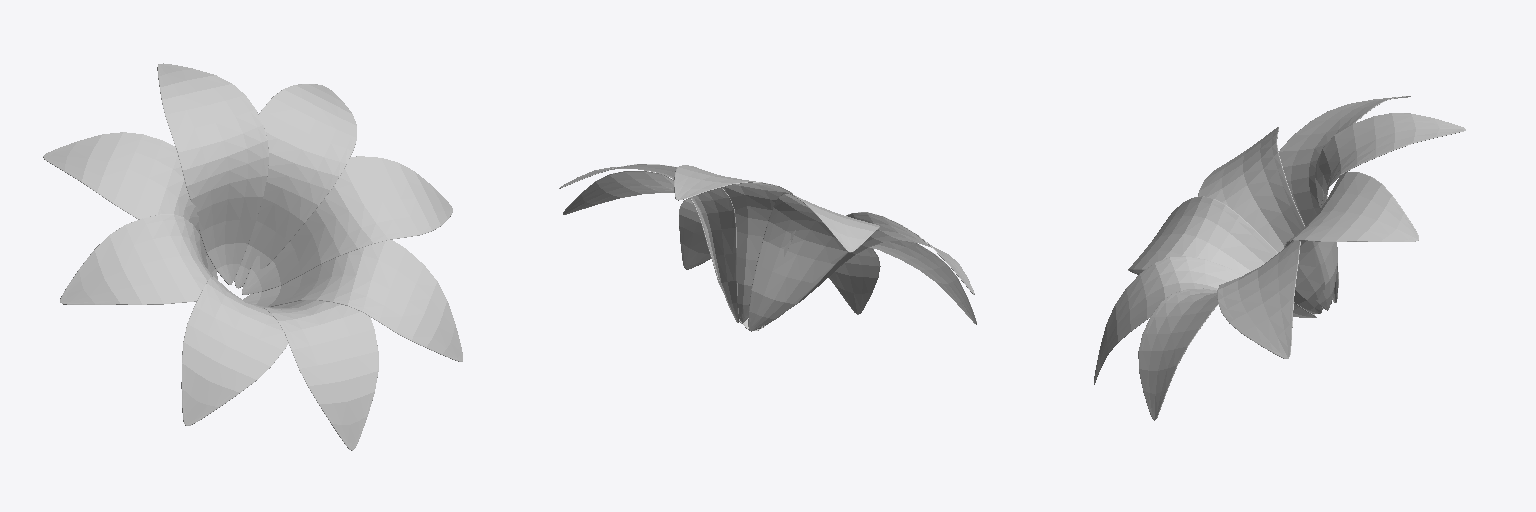
File: sepals_only.obj
3 views of the same model, side by side, from view 1: azimuth 30°, elevation 25°; view 2: azimuth 150°, elevation 25°; view 3: azimuth 270°, elevation 25° (orthographic).
Parts seen in each view (by area): view 1: facb_sepal_5, facb_sepal_4, facb_sepal_3, facb_sepal_2, facb_sepal_7, facb_sepal_1, facb_sepal_8, facb_sepal_6; view 2: facb_sepal_6, facb_sepal_5, facb_sepal_4, facb_sepal_3, facb_sepal_8, facb_sepal_1, facb_sepal_7, facb_sepal_2; view 3: facb_sepal_3, facb_sepal_4, facb_sepal_8, facb_sepal_7, facb_sepal_2, facb_sepal_5, facb_sepal_1, facb_sepal_6.
Boxes of the visible parts, x1=… form: facb_sepal_5: x1=157, y1=63, x2=268, y2=284; facb_sepal_4: x1=234, y1=84, x2=356, y2=288; facb_sepal_3: x1=242, y1=156, x2=452, y2=294; facb_sepal_2: x1=243, y1=240, x2=462, y2=361; facb_sepal_7: x1=60, y1=214, x2=212, y2=304; facb_sepal_1: x1=251, y1=300, x2=378, y2=450; facb_sepal_8: x1=181, y1=276, x2=288, y2=425; facb_sepal_6: x1=43, y1=132, x2=217, y2=279; facb_sepal_6: x1=748, y1=193, x2=879, y2=331; facb_sepal_5: x1=674, y1=165, x2=795, y2=322; facb_sepal_4: x1=559, y1=164, x2=738, y2=322; facb_sepal_3: x1=563, y1=171, x2=741, y2=323; facb_sepal_8: x1=759, y1=240, x2=976, y2=328; facb_sepal_1: x1=754, y1=247, x2=880, y2=330; facb_sepal_7: x1=796, y1=212, x2=974, y2=304; facb_sepal_2: x1=679, y1=198, x2=748, y2=329; facb_sepal_3: x1=1217, y1=240, x2=1324, y2=358; facb_sepal_4: x1=1284, y1=172, x2=1418, y2=310; facb_sepal_8: x1=1128, y1=196, x2=1277, y2=275; facb_sepal_7: x1=1198, y1=127, x2=1304, y2=252; facb_sepal_2: x1=1138, y1=288, x2=1316, y2=420; facb_sepal_5: x1=1315, y1=113, x2=1465, y2=303; facb_sepal_1: x1=1094, y1=256, x2=1314, y2=384; facb_sepal_6: x1=1279, y1=96, x2=1410, y2=302.
Bounding box in the file's own units: 1.93 × 1.17 × 1.55.